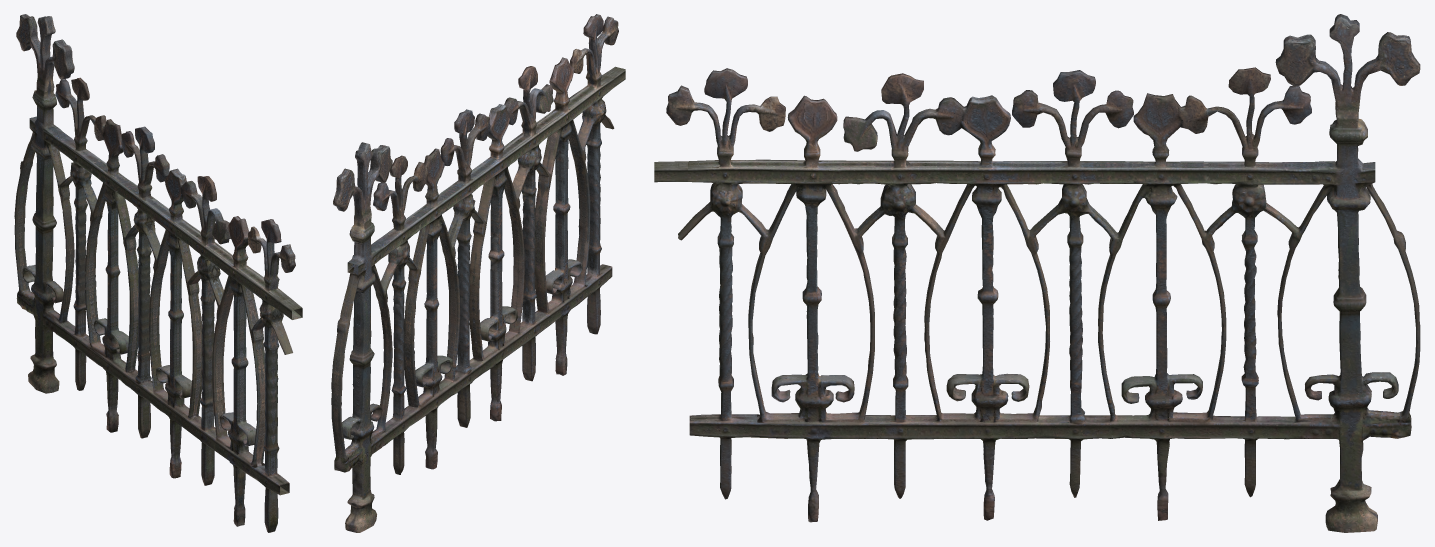
The model's file is sm_OldFence_01_04.fbx.
The picture shows the model from 3 angles, left to right: view 1: azimuth 30°, elevation 25°; view 2: azimuth 150°, elevation 25°; view 3: azimuth 270°, elevation 25°; orthographic projection. The views are drawn at different scales.
Visible parts, largest first — view 1: sm_OldFence_01_04_LOD0; view 2: sm_OldFence_01_04_LOD0; view 3: sm_OldFence_01_04_LOD0.
Part boxes in pixels (box(x1,y1,x2,y2)): sm_OldFence_01_04_LOD0: box(14, 14, 302, 532); sm_OldFence_01_04_LOD0: box(331, 14, 625, 532); sm_OldFence_01_04_LOD0: box(654, 14, 1420, 532).
Bounding box in the file's own units: 7.36 × 170 × 125.
